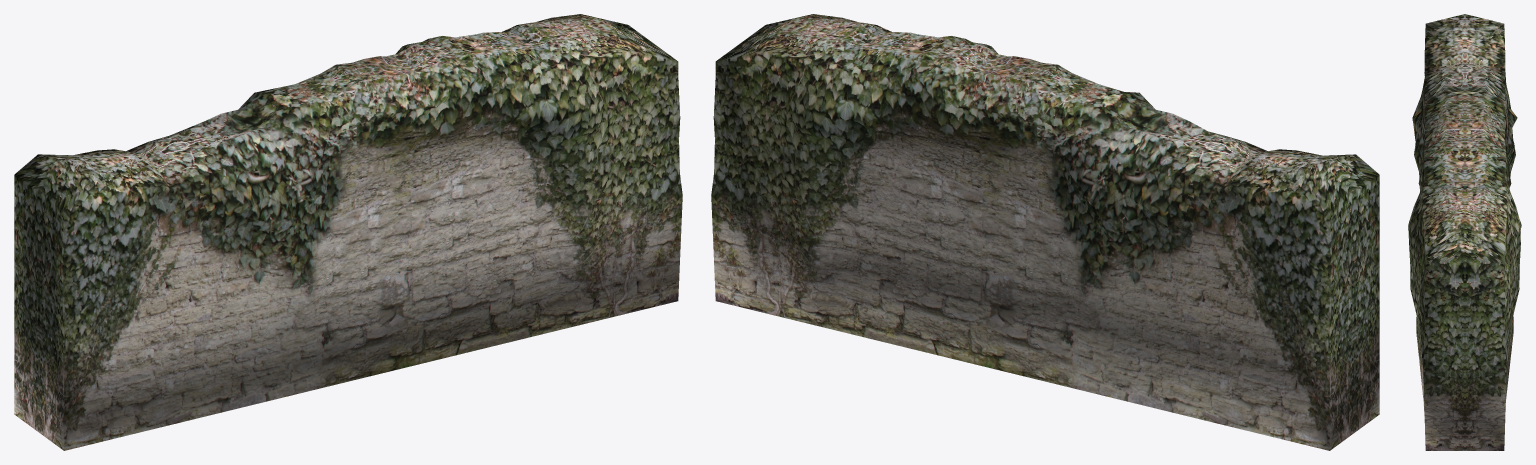
File: wallparta.fbx
3 renders of one model, left to right at view 1: azimuth 30°, elevation 25°; view 2: azimuth 150°, elevation 25°; view 3: azimuth 270°, elevation 25°, orthographic. The views are drawn at different scales.
Visible parts, largest first — view 1: U3DMesh; view 2: U3DMesh; view 3: U3DMesh.
Part boxes in pixels (x1,y1,x2,y2): U3DMesh: [14, 14, 682, 450]; U3DMesh: [711, 14, 1379, 450]; U3DMesh: [1408, 14, 1521, 450].
Bounding box in the file's own units: 134 × 59.31 × 27.04.
